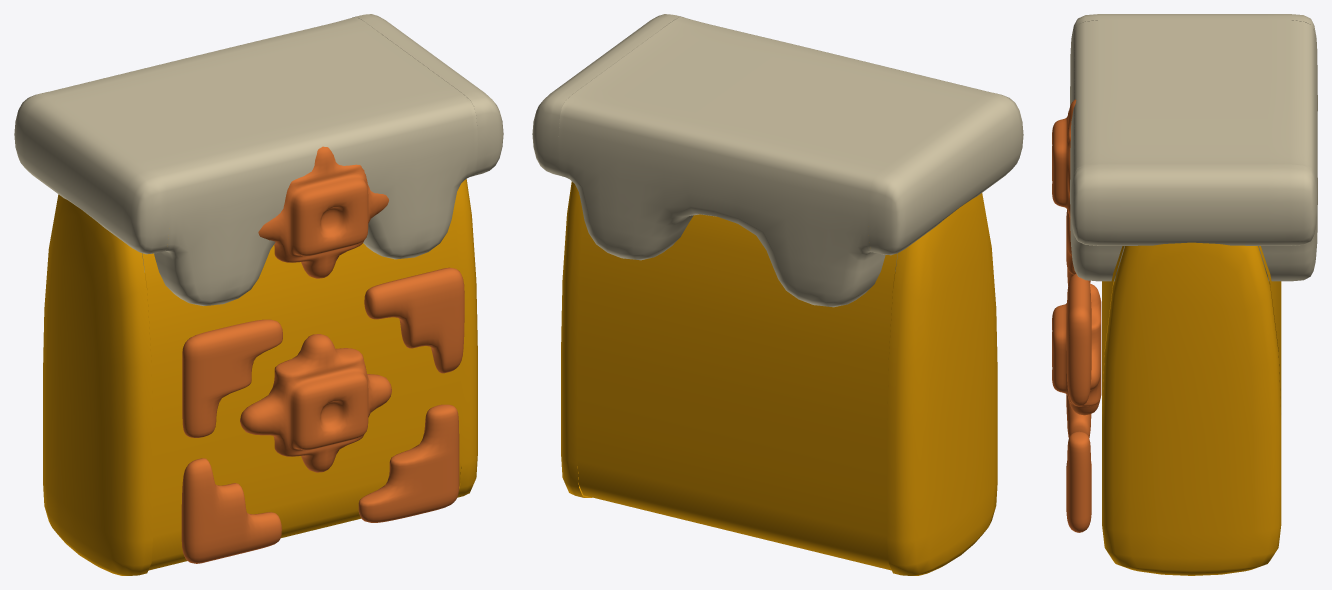
Rendered from Terrain3.fbx.
The picture shows the model from 3 angles, left to right: view 1: azimuth 30°, elevation 25°; view 2: azimuth 150°, elevation 25°; view 3: azimuth 270°, elevation 25°; orthographic projection. The views are drawn at different scales.
Visible parts, largest first — view 1: Terrain3_Top, Terrain3, Terrain3_Middle, Terrain3_Middle_L, Terrain3_Top_L, Terrain3_Middle_R, Terrain3_Top_R; view 2: Terrain3_Middle, Terrain3_Top, Terrain3_Middle_L, Terrain3_Top_L, Terrain3_Middle_R, Terrain3_Top_R; view 3: Terrain3_Middle_R, Terrain3_Top, Terrain3_Top_R, Terrain3, Terrain3_Top_L, Terrain3_Middle.
Part boxes in pixels (left/top/right/bottom): Terrain3_Top: left=48, top=17, right=477, bottom=305; Terrain3: left=181, top=146, right=464, bottom=563; Terrain3_Middle: left=142, top=205, right=461, bottom=570; Terrain3_Middle_L: left=43, top=194, right=152, bottom=575; Terrain3_Top_L: left=14, top=92, right=169, bottom=254; Terrain3_Middle_R: left=454, top=179, right=477, bottom=497; Terrain3_Top_R: left=352, top=14, right=503, bottom=175; Terrain3_Middle: left=577, top=214, right=897, bottom=570; Terrain3_Top: left=558, top=17, right=989, bottom=307; Terrain3_Middle_L: left=887, top=193, right=997, bottom=575; Terrain3_Top_L: left=868, top=92, right=1023, bottom=255; Terrain3_Middle_R: left=561, top=181, right=592, bottom=497; Terrain3_Top_R: left=532, top=14, right=683, bottom=175; Terrain3_Middle_R: left=1102, top=242, right=1281, bottom=575; Terrain3_Top: left=1070, top=20, right=1317, bottom=281; Terrain3_Top_R: left=1070, top=164, right=1317, bottom=245; Terrain3: left=1052, top=99, right=1101, bottom=532; Terrain3_Top_L: left=1070, top=14, right=1317, bottom=57; Terrain3_Middle: left=1102, top=246, right=1281, bottom=414.
Bounding box in the file's own units: 22.88 × 24.81 × 14.81.
